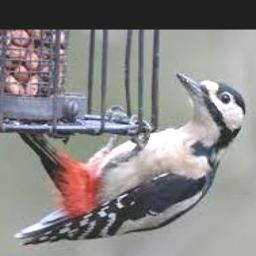Woodpecker: (15, 73, 247, 246)
